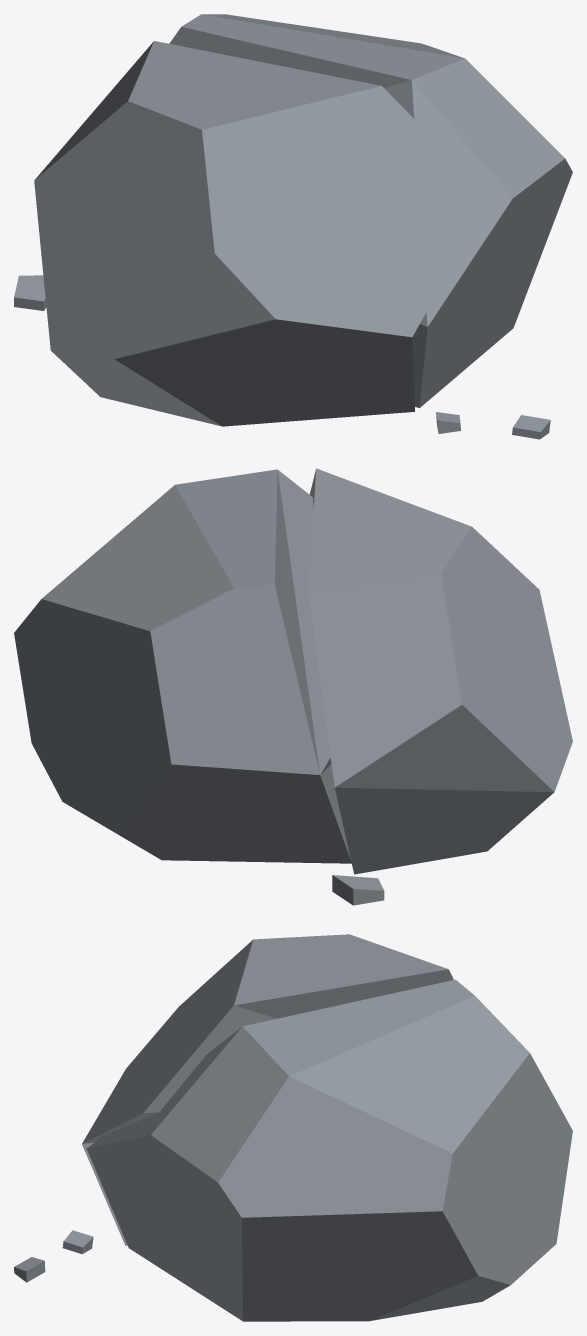
The model's file is Rock_Round_crk_m_02.fbx.
The picture shows the model from 3 angles, top to bottom: view 1: azimuth 30°, elevation 25°; view 2: azimuth 150°, elevation 25°; view 3: azimuth 270°, elevation 25°; orthographic projection. The views are drawn at different scales.
Parts seen in each view (by area): view 1: Rock_Round_crk_m_02; view 2: Rock_Round_crk_m_02; view 3: Rock_Round_crk_m_02.
Part boxes in pixels (bbox=[...]): Rock_Round_crk_m_02: bbox=[14, 14, 572, 439]; Rock_Round_crk_m_02: bbox=[14, 468, 572, 905]; Rock_Round_crk_m_02: bbox=[14, 934, 572, 1321].
Bounding box in the file's own units: 120 × 70.1 × 132.
